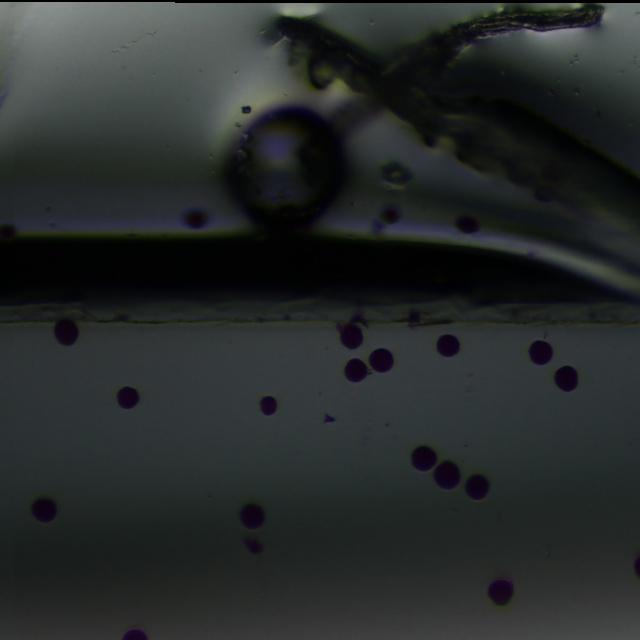viable: (434, 461, 460, 490), (411, 445, 437, 471), (488, 579, 513, 605), (54, 319, 78, 345), (32, 497, 56, 523), (466, 474, 489, 500), (369, 348, 393, 372), (340, 323, 362, 349), (242, 503, 264, 529), (529, 340, 552, 364), (556, 365, 577, 391), (437, 334, 459, 356), (345, 359, 367, 381), (183, 209, 207, 228), (119, 386, 138, 409), (456, 216, 478, 233), (381, 207, 400, 224), (243, 538, 263, 554), (122, 628, 147, 639), (0, 224, 16, 239), (261, 398, 275, 415), (634, 555, 639, 577)
